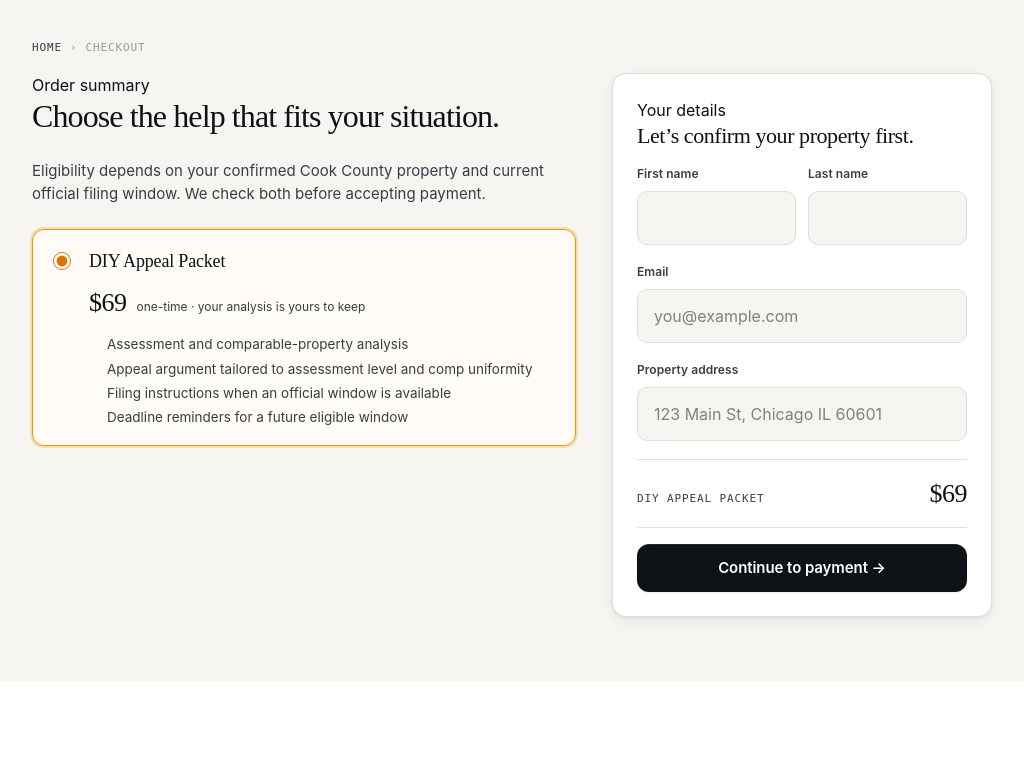
it: begin_checkout from the real checkout page › ignores stale server failure after BFCache restore while the current intent owns the lock
Later steps or results of the test are not shown.
Type "Buyer" into the field labelled "First name".
click(716, 218); type("Buyer")  # box [637,191,796,245]
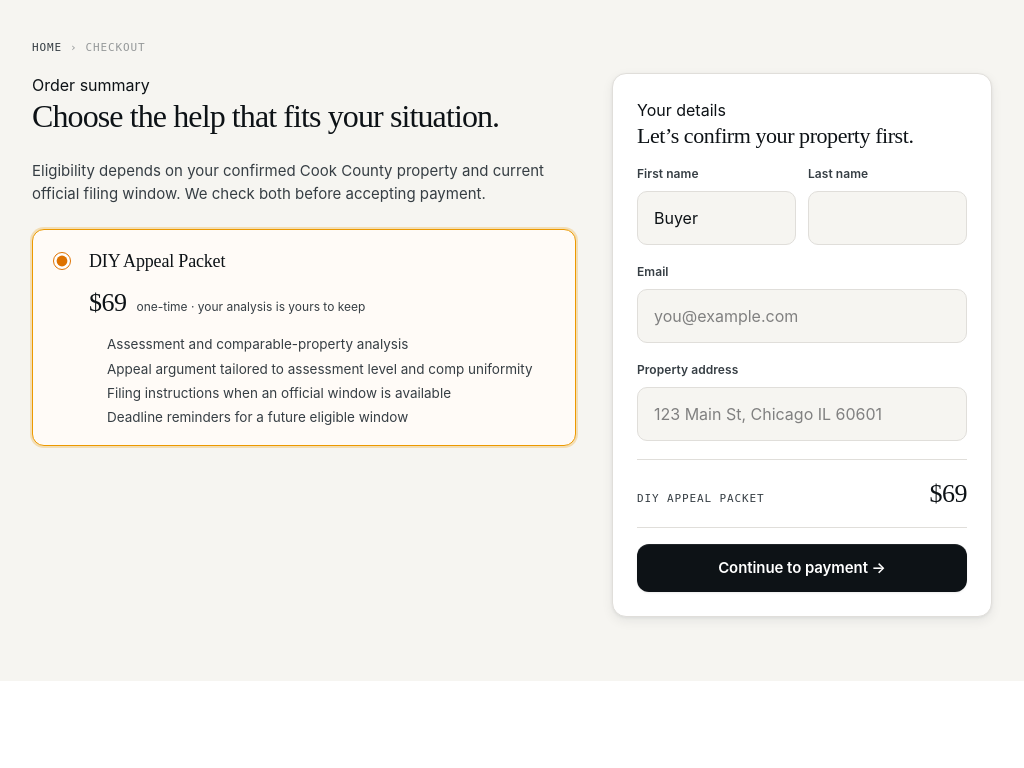
Type "Example" into the field labelled "Last name".
click(888, 218); type("Example")  # box [808,191,967,245]
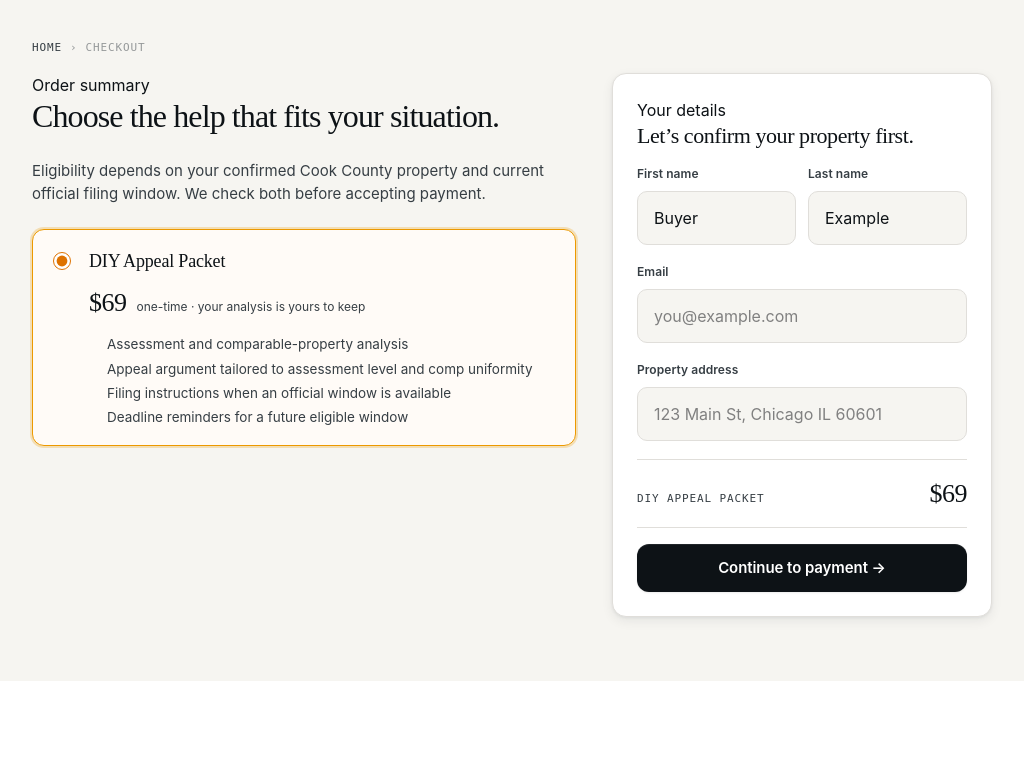
Type "buyer@example.com" into the field labelled "Email".
click(802, 316); type("buyer@example.com")  # box [637,289,967,343]
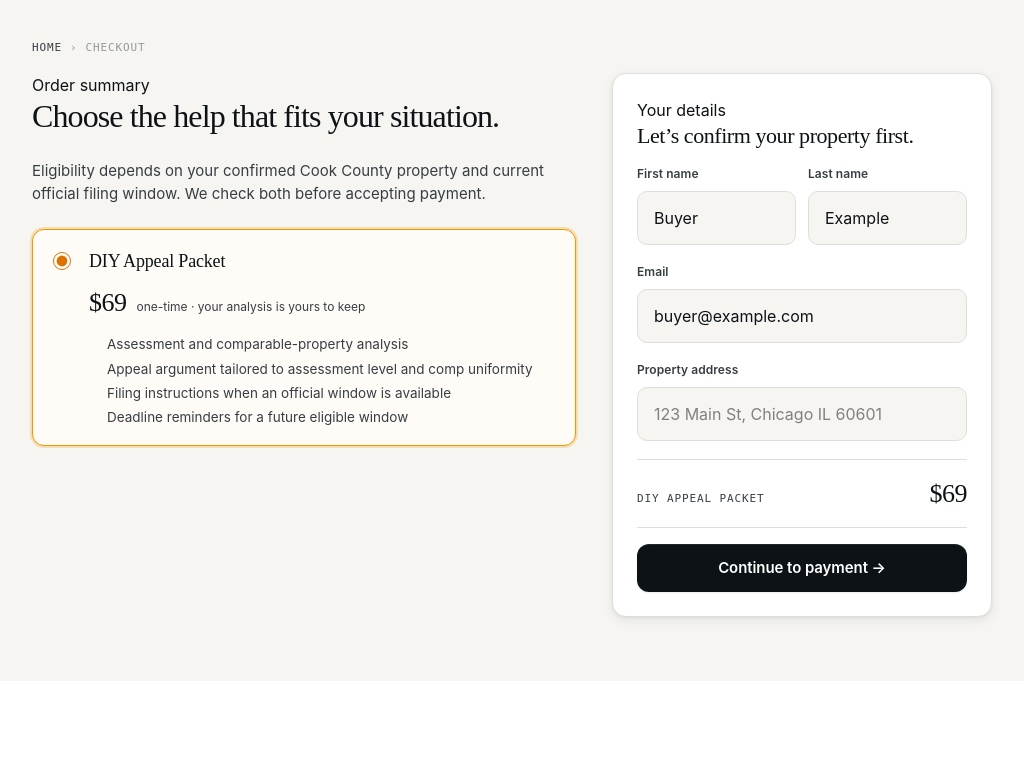
Type "2834 W Henderson St, Chicago IL 60618" into the field labelled "Property address".
click(802, 414); type("2834 W Henderson St, Chicago IL 60618")  # box [637,387,967,441]
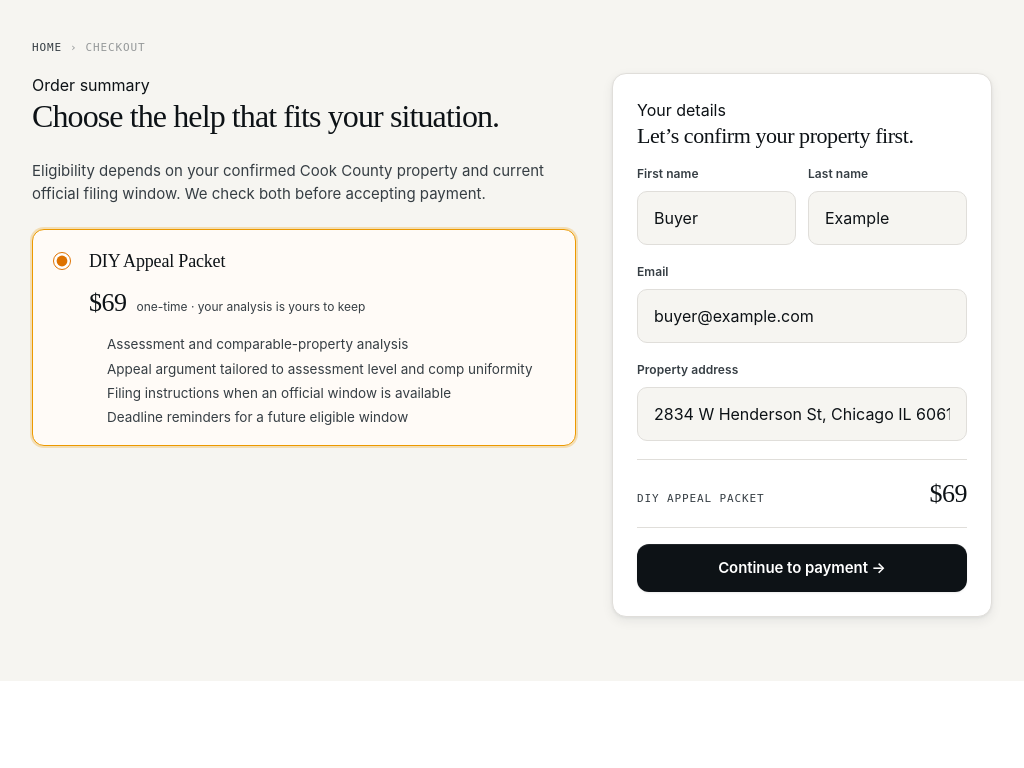
Submit the form with class "ot-checkout-form", box [637,165,967,592]
Expected: the button "Continue to payment →" is enabled, [637,544,967,592]
Submit the form with class "ot-checkout-form", box [637,165,967,592]
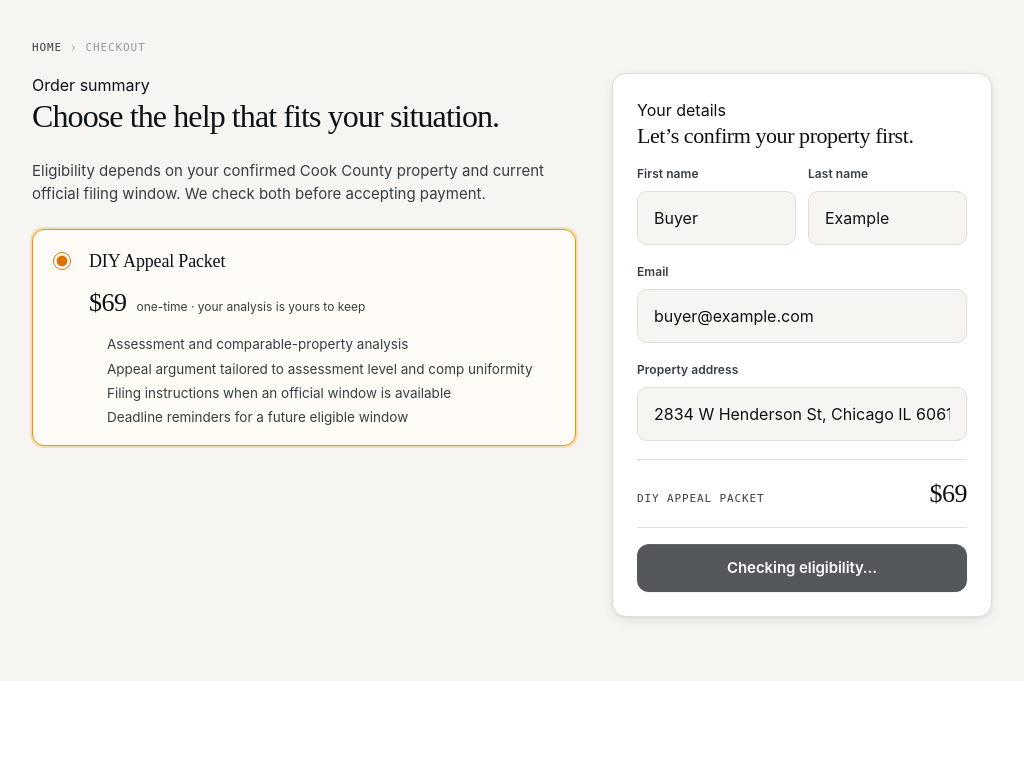
Submit the form with class "ot-checkout-form", box [637,165,967,592]
Now the button "Checking eligibility…" is disabled, box [637,544,967,592]
